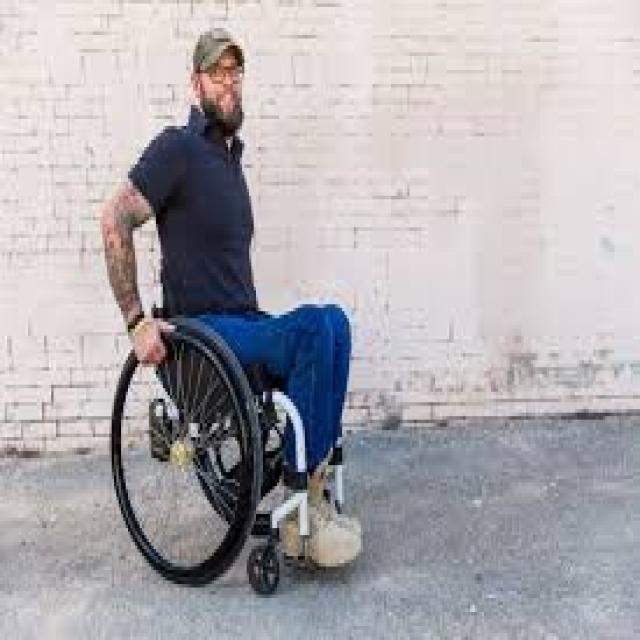wheelchairs: (104, 304, 353, 591)
